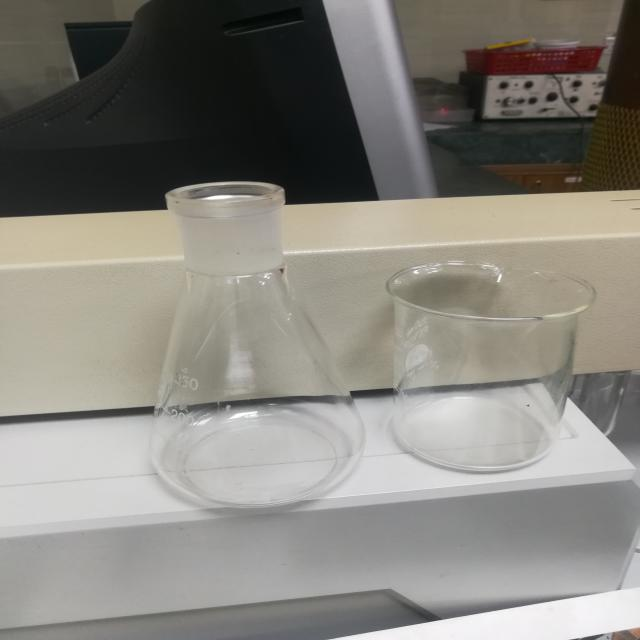Beaker: (376, 233, 604, 488)
Conical_Flask: (128, 124, 366, 530)
